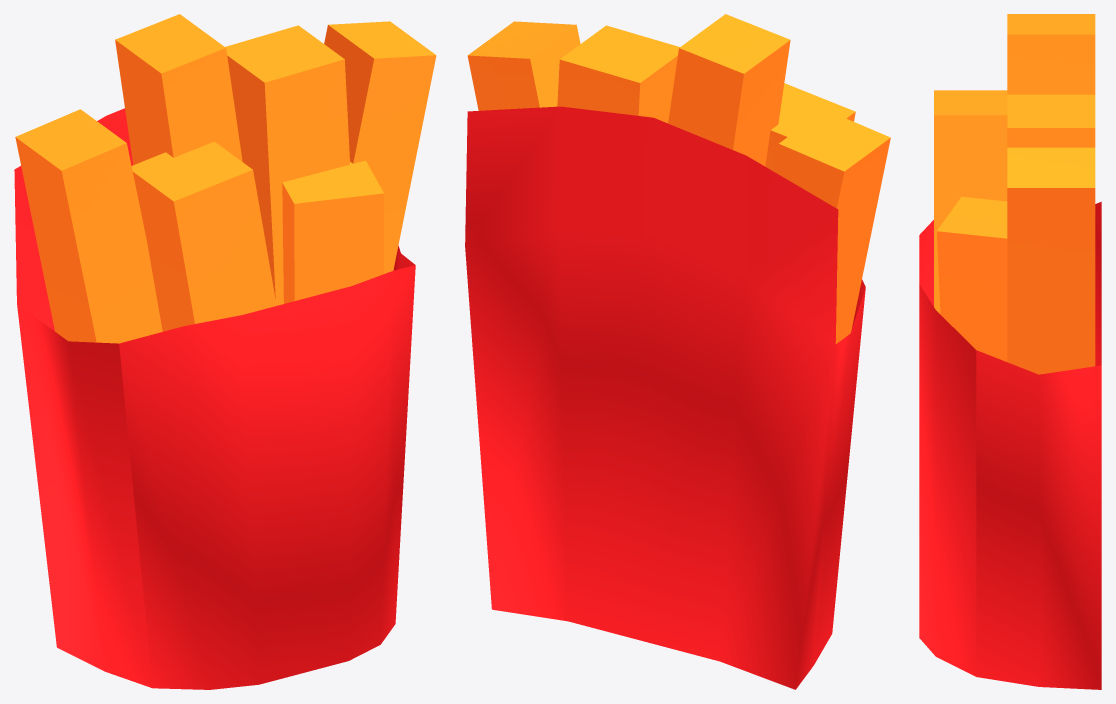
The model's file is red_fries.glb.
3 views of the same model, side by side, from view 1: azimuth 30°, elevation 25°; view 2: azimuth 150°, elevation 25°; view 3: azimuth 270°, elevation 25° (orthographic). The views are drawn at different scales.
Parts seen in each view (by area): view 1: red_fries; view 2: red_fries; view 3: red_fries.
Part boxes in pixels (bbox=[...]): red_fries: bbox=[14, 14, 436, 689]; red_fries: bbox=[465, 14, 890, 689]; red_fries: bbox=[919, 14, 1101, 689].
Bounding box in the file's own units: 0.5416 × 0.8426 × 0.2404.
1 material, 1 textured.
